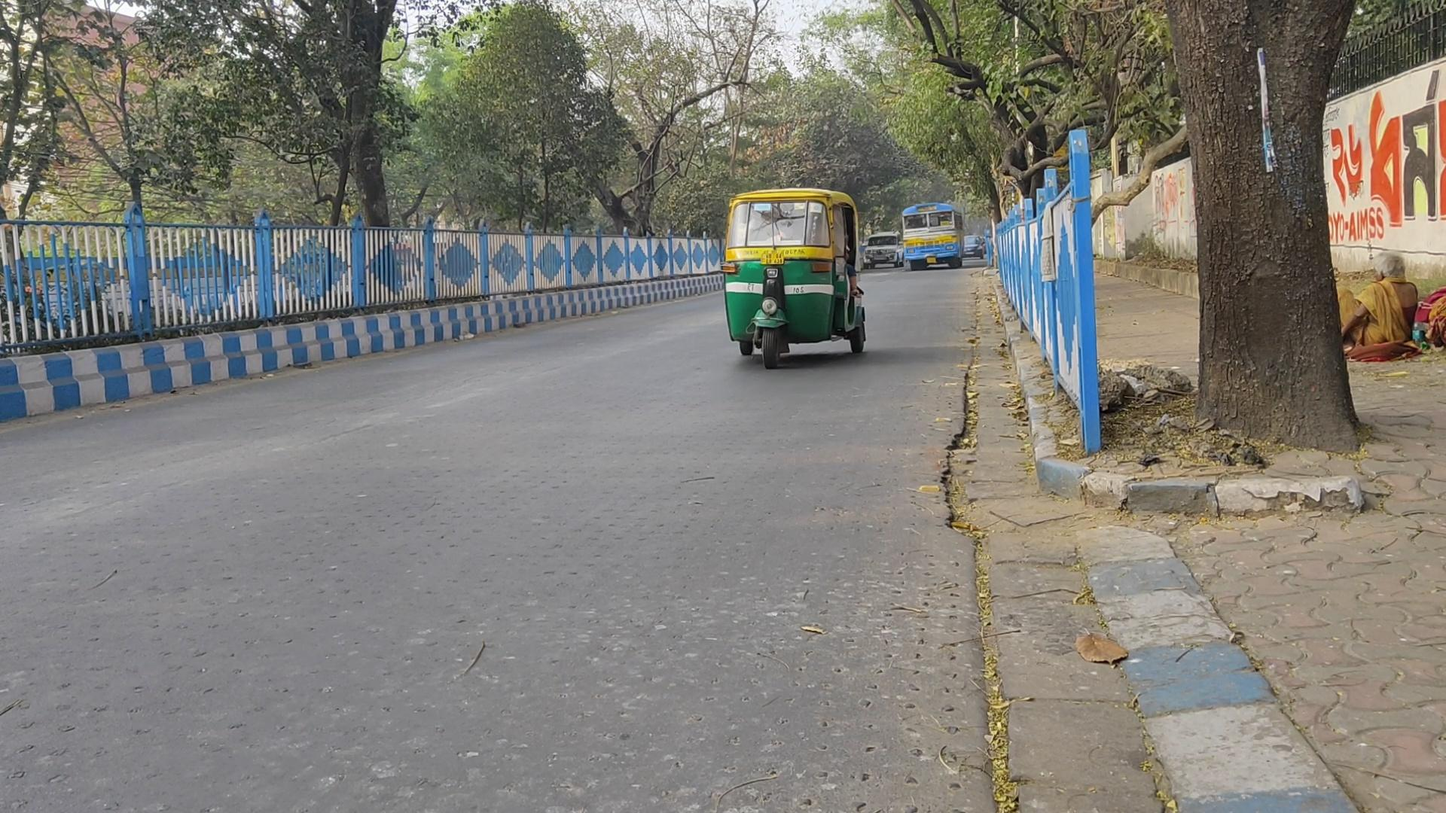Auto: (721, 186, 867, 370)
Bus: (900, 201, 965, 272)
car: (862, 229, 903, 271), (963, 233, 985, 262)
